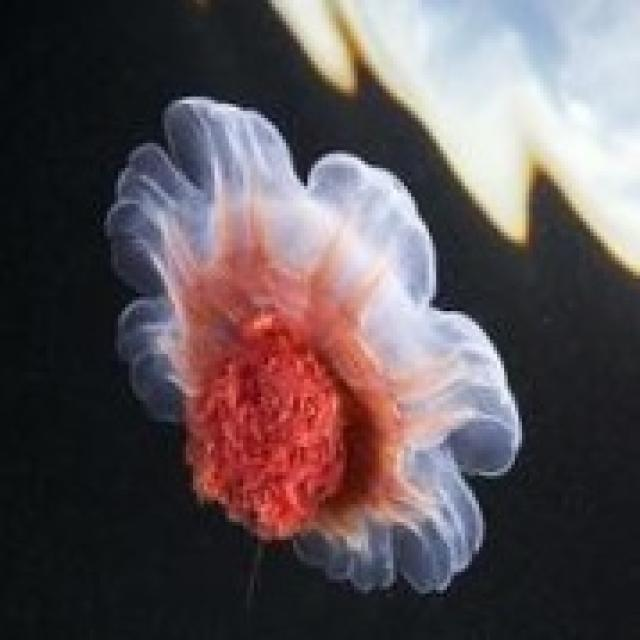Jellyfish: (100, 93, 522, 593)
